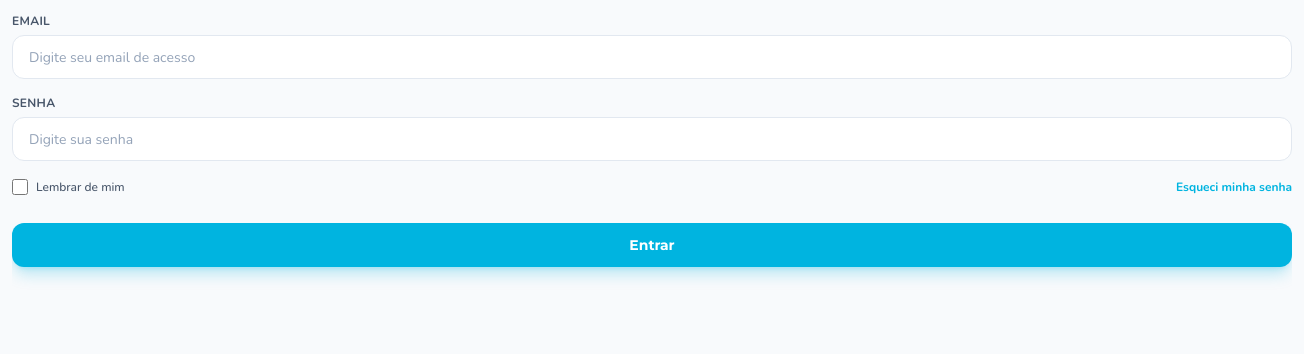
Test: LoginForm › erro EMAIL_NOT_VALIDATED exibe mensagem correta
Type "teste@vans.com" into the field labelled "Email". click: (652, 57)
box: top-left (12, 35), bottom-right (1292, 79)
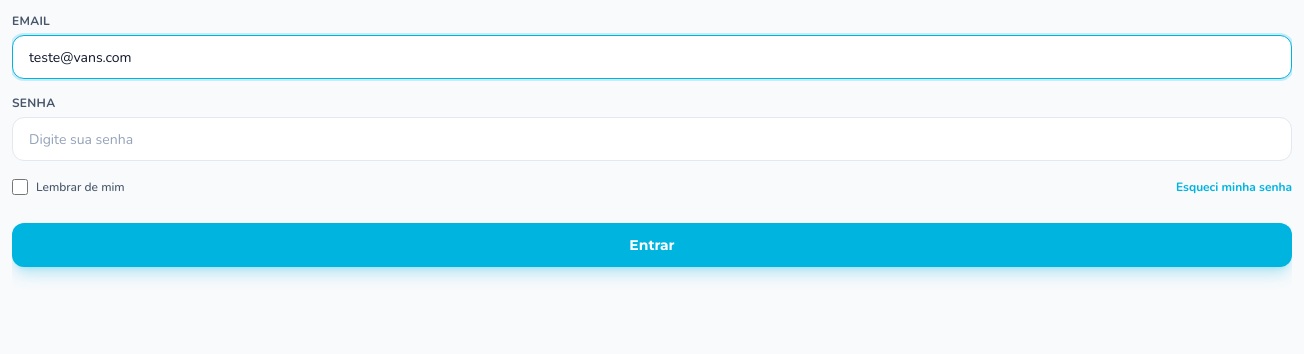
Type "senha123" into the password field labelled "Senha". click: (652, 139)
box: top-left (12, 117), bottom-right (1292, 161)
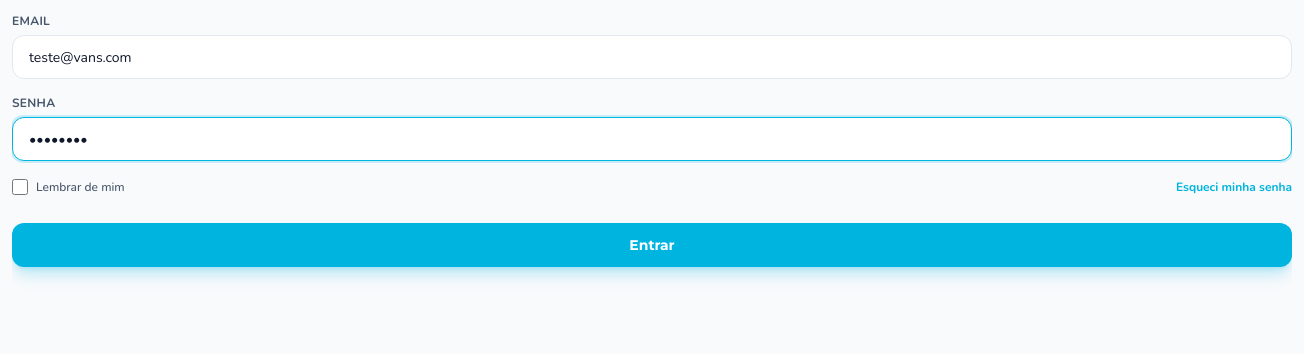
Click the button "Entrar". click: (652, 245)
box: top-left (12, 223), bottom-right (1292, 267)
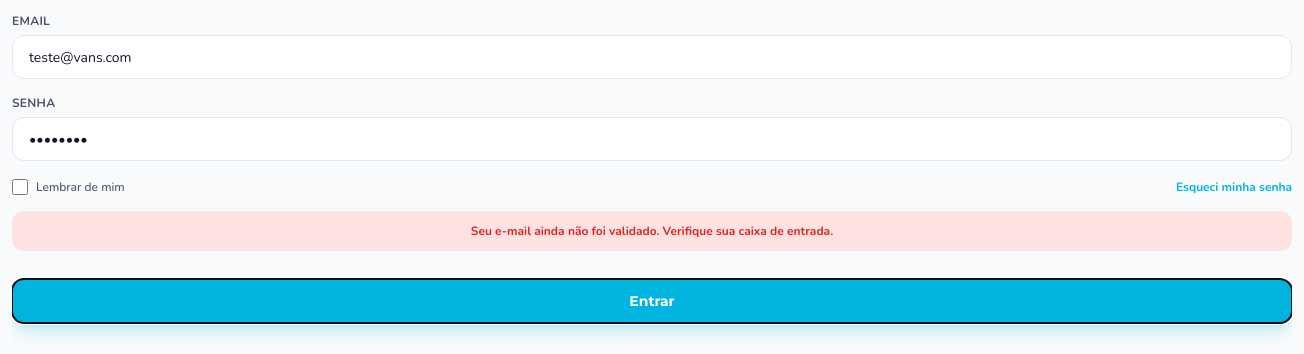
expect the text "Seu e-mail ainda não foi validado. Verifique sua caixa de entrada." is shown: met, box top-left (12, 211), bottom-right (1292, 251)
